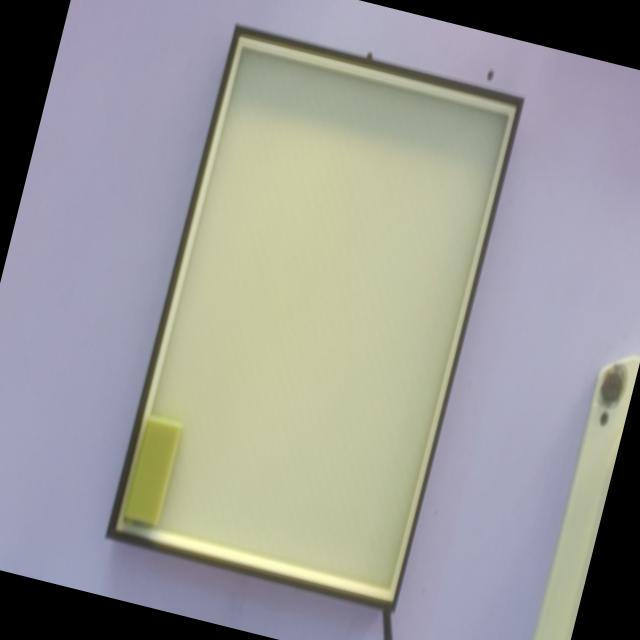bateria: (121, 415, 183, 531)
mesa: (105, 24, 524, 613)
